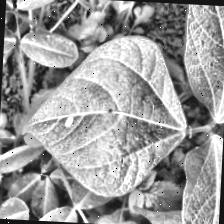Bean Rust: (23, 29, 193, 202), (180, 4, 224, 121), (181, 131, 223, 224)
